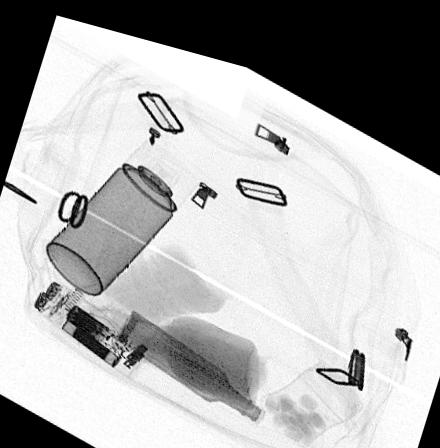Sprayer: (44, 127, 201, 292)
